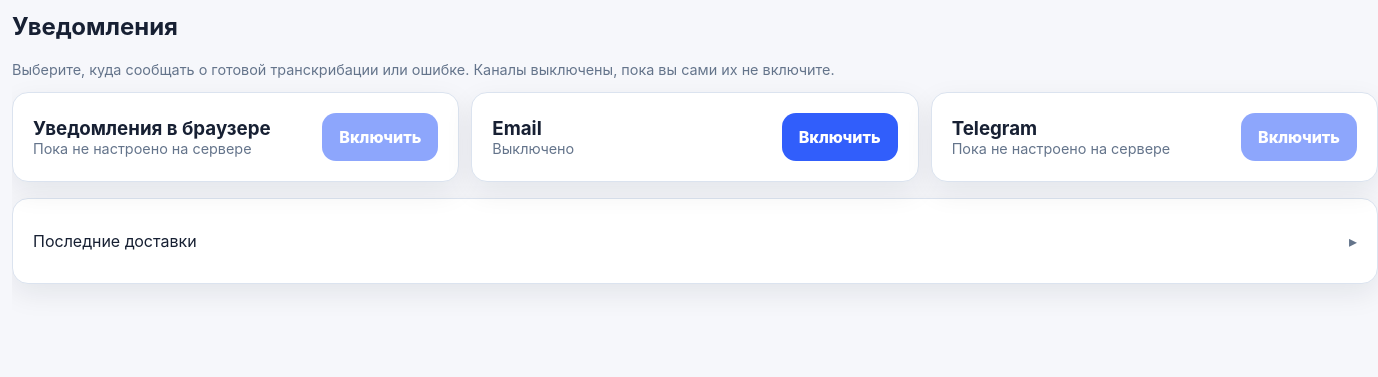
it: NotificationsPanel › shows unavailable channels honestly and opts email in explicitly
Expected: the heading "Уведомления в браузере" is shown, x1=33 y1=117 x2=271 y2=140
Expected: the text "Пока не настроено на сервере" is shown 2 times, x1=33 y1=140 x2=271 y2=157; x1=952 y1=140 x2=1170 y2=157
Click the button "Включить" in the row of "Выключено".
click(840, 137)  # box x1=782 y1=113 x2=898 y2=161
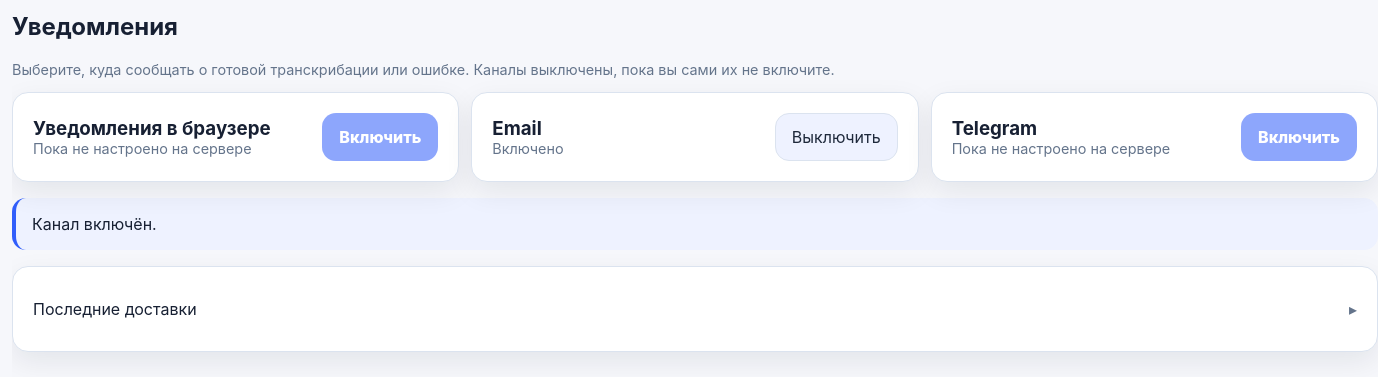
Expected: the text "Канал включён." is shown, x1=12 y1=198 x2=1377 y2=250
